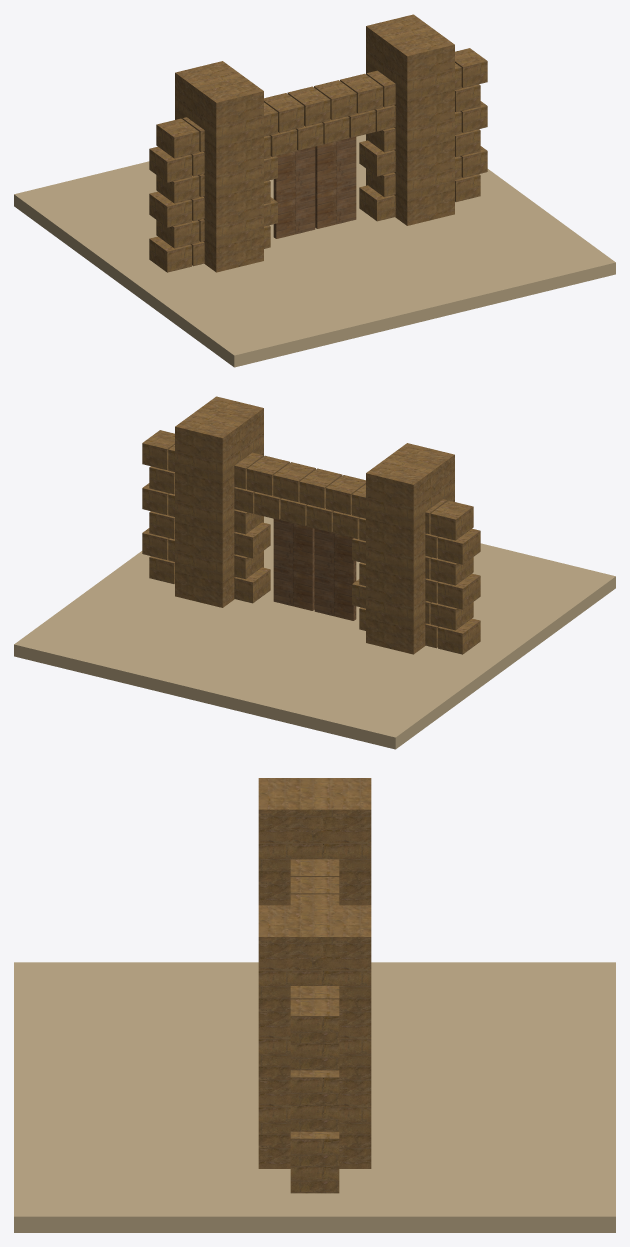
The model's file is portao.glb.
The picture shows the model from 3 angles, top to bottom: view 1: azimuth 30°, elevation 25°; view 2: azimuth 150°, elevation 25°; view 3: azimuth 270°, elevation 25°; orthographic projection. The views are drawn at different scales.
Parts seen in each view (by area): view 1: Base ilustrativa, Torre do portão.001, Torre do portão, Folha do portão.001, Folha do portão, Bloco de alvenaria.044, Bloco de alvenaria.016, Bloco de alvenaria, Bloco de alvenaria.032, Bloco de alvenaria.049, Bloco de alvenaria.051, Bloco de alvenaria.050 (+19 smaller); view 2: Base ilustrativa, Torre do portão.001, Torre do portão, Folha do portão.001, Folha do portão, Bloco de alvenaria.044, Bloco de alvenaria.016, Bloco de alvenaria, Bloco de alvenaria.032, Bloco de alvenaria.049, Bloco de alvenaria.051, Bloco de alvenaria.050 (+19 smaller); view 3: Base ilustrativa, Torre do portão.001, Torre do portão, Bloco de alvenaria.055, Bloco de alvenaria.015, Bloco de alvenaria.031, Bloco de alvenaria.007, Bloco de alvenaria.043, Bloco de alvenaria.023, Bloco de alvenaria.047, Bloco de alvenaria.048, Bloco de alvenaria.054.
Boxes of the visible parts, bbox=[...] form: Base ilustrativa: bbox=[14, 134, 615, 367]; Torre do portão.001: bbox=[366, 14, 454, 225]; Torre do portão: bbox=[175, 61, 263, 272]; Folha do portão.001: bbox=[315, 137, 356, 228]; Folha do portão: bbox=[273, 147, 315, 238]; Bloco de alvenaria.044: bbox=[156, 118, 199, 158]; Bloco de alvenaria.016: bbox=[149, 191, 191, 227]; Bloco de alvenaria: bbox=[149, 236, 191, 272]; Bloco de alvenaria.032: bbox=[149, 146, 191, 182]; Bloco de alvenaria.049: bbox=[287, 86, 330, 126]; Bloco de alvenaria.051: bbox=[340, 73, 382, 113]; Bloco de alvenaria.050: bbox=[314, 80, 356, 119]; Base ilustrativa: bbox=[14, 516, 615, 749]; Torre do portão.001: bbox=[175, 396, 263, 607]; Torre do portão: bbox=[366, 443, 454, 654]; Folha do portão.001: bbox=[273, 519, 314, 610]; Folha do portão: bbox=[314, 529, 356, 620]; Bloco de alvenaria.044: bbox=[430, 500, 473, 540]; Bloco de alvenaria.016: bbox=[438, 573, 480, 609]; Bloco de alvenaria: bbox=[438, 618, 480, 654]; Bloco de alvenaria.032: bbox=[438, 528, 480, 564]; Bloco de alvenaria.049: bbox=[299, 468, 342, 508]; Bloco de alvenaria.051: bbox=[247, 455, 289, 495]; Bloco de alvenaria.050: bbox=[273, 462, 315, 501]; Base ilustrativa: bbox=[14, 962, 615, 1232]; Torre do portão.001: bbox=[258, 905, 371, 1168]; Torre do portão: bbox=[258, 778, 371, 905]; Bloco de alvenaria.055: bbox=[290, 999, 339, 1044]; Bloco de alvenaria.015: bbox=[290, 1131, 339, 1167]; Bloco de alvenaria.031: bbox=[290, 1070, 339, 1105]; Bloco de alvenaria.007: bbox=[290, 1167, 339, 1193]; Bloco de alvenaria.043: bbox=[290, 1044, 339, 1070]; Bloco de alvenaria.023: bbox=[290, 1106, 339, 1131]; Bloco de alvenaria.047: bbox=[290, 859, 339, 876]; Bloco de alvenaria.048: bbox=[290, 877, 339, 894]; Bloco de alvenaria.054: bbox=[290, 986, 339, 999].
Size of the model in its own units: 8 by 3.64 by 8.
Materials: 3 (2 with a texture image).
